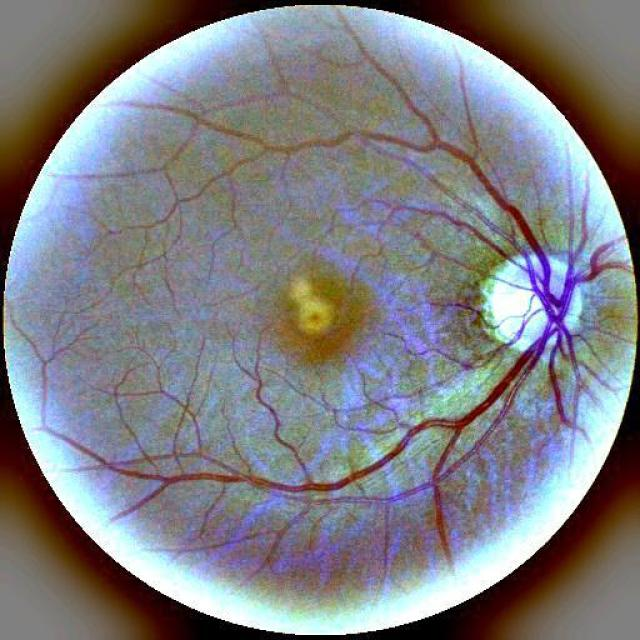Macula: (291, 279, 332, 334)
Nerves: (55, 127, 611, 559)
Optic Disk: (481, 254, 580, 354)
